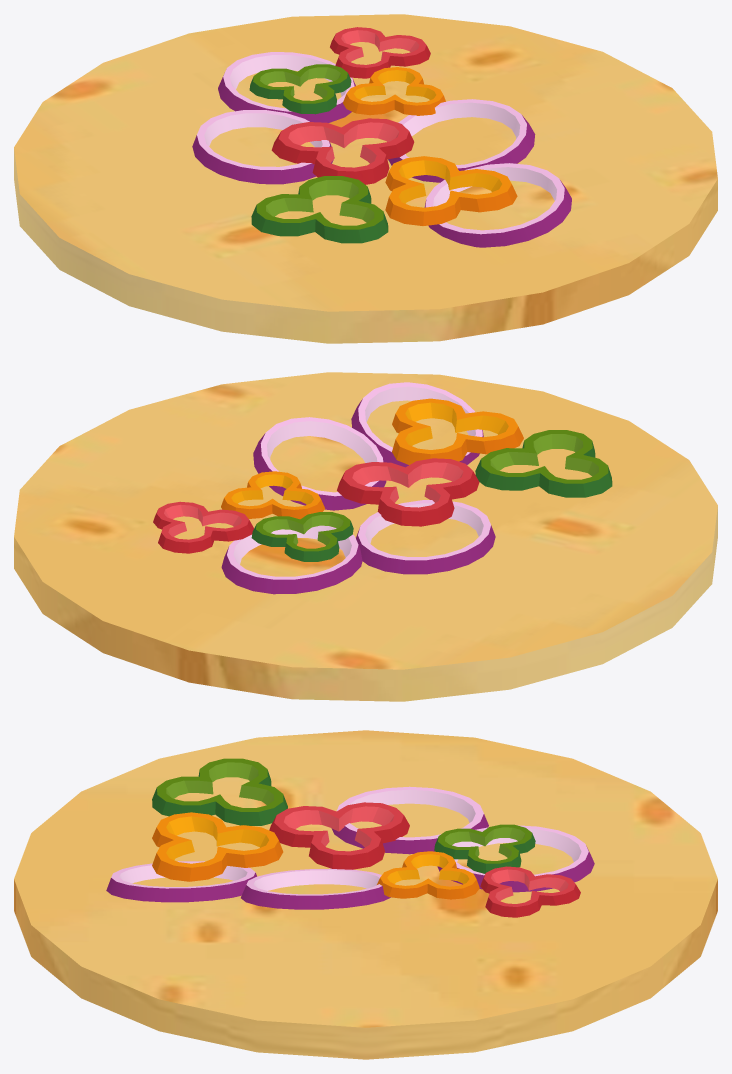
The model's file is taco_Cebolla_Pimiento.glb.
3 views of the same model, one above another, from view 1: azimuth 30°, elevation 25°; view 2: azimuth 150°, elevation 25°; view 3: azimuth 270°, elevation 25° (orthographic).
Parts seen in each view (by area): view 1: tortilla.002, Pepper_Slice_Pepper_0, Pepper_Slice_Pepper_0.001, Onion_Slice_Onion_0.001, Onion_Slice_Onion_0; view 2: tortilla.002, Pepper_Slice_Pepper_0, Pepper_Slice_Pepper_0.001, Onion_Slice_Onion_0, Onion_Slice_Onion_0.001; view 3: tortilla.002, Pepper_Slice_Pepper_0, Pepper_Slice_Pepper_0.001, Onion_Slice_Onion_0.001, Onion_Slice_Onion_0.
Part boxes in pixels (x1,y1,x2,y2): tortilla.002: (14,14,717,343); Pepper_Slice_Pepper_0: (251,118,517,243); Pepper_Slice_Pepper_0.001: (249,27,445,115); Onion_Slice_Onion_0.001: (388,99,571,247); Onion_Slice_Onion_0: (192,52,355,184); tortilla.002: (14,372,717,701); Pepper_Slice_Pepper_0: (337,398,612,526); Pepper_Slice_Pepper_0.001: (153,471,353,561); Onion_Slice_Onion_0: (221,500,495,594); Onion_Slice_Onion_0.001: (253,382,483,510); tortilla.002: (14,730,717,1059); Pepper_Slice_Pepper_0: (152,758,409,881); Pepper_Slice_Pepper_0.001: (377,824,580,917); Onion_Slice_Onion_0.001: (106,861,390,909); Onion_Slice_Onion_0: (331,786,594,892).
Size of the model in its own units: 0.2118 by 0.0248 by 0.2118.
3 materials, 3 textured.
